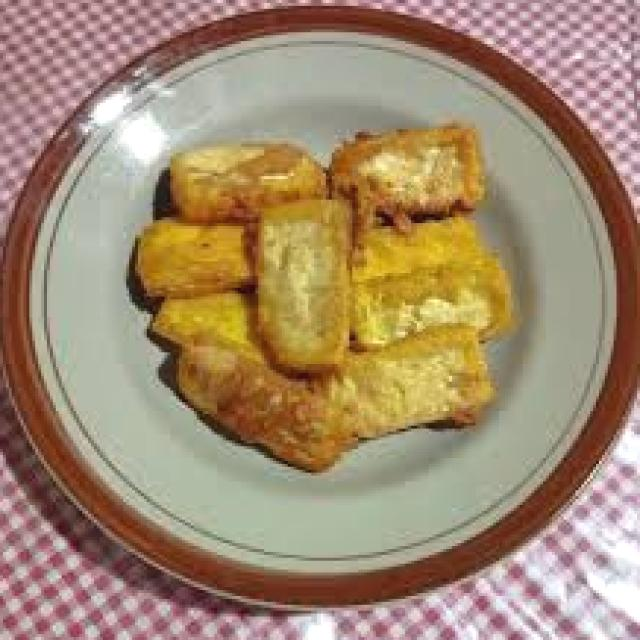tahu: (134, 120, 505, 454), (231, 187, 367, 376)
